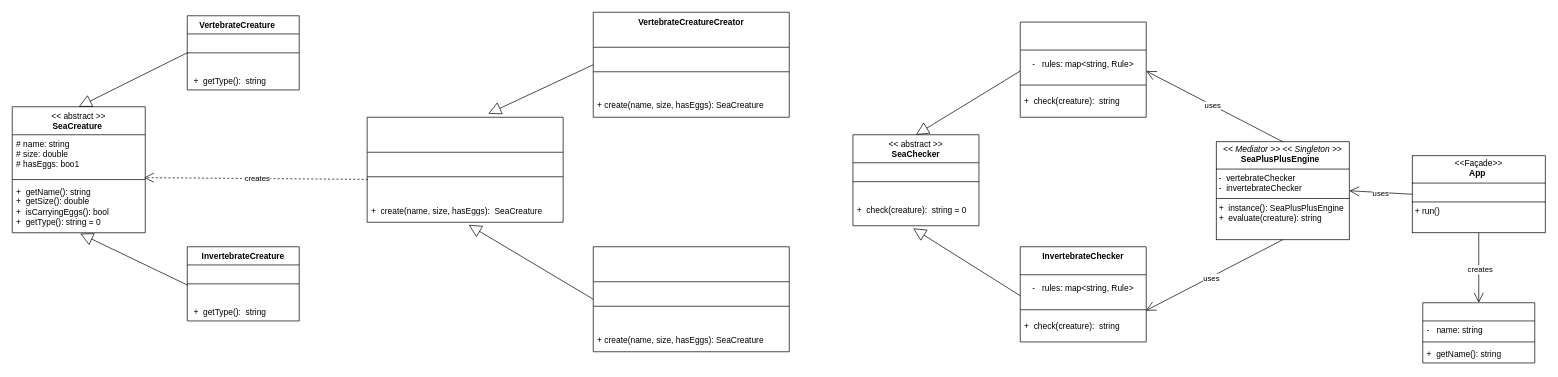
The diagram is 1558 pixels wide and 377 high, and some of its shapes have lost their labels. The box of each missing label's shape, as (x1, y1, x2, y2) in pixels:
Angler: (1422, 302, 1535, 363)
InvertebrateCreatureCreator: (593, 246, 789, 352)
VertebrateChecker: (1020, 21, 1146, 117)
«abstract» SeaCreatureCreator: (366, 117, 563, 222)
